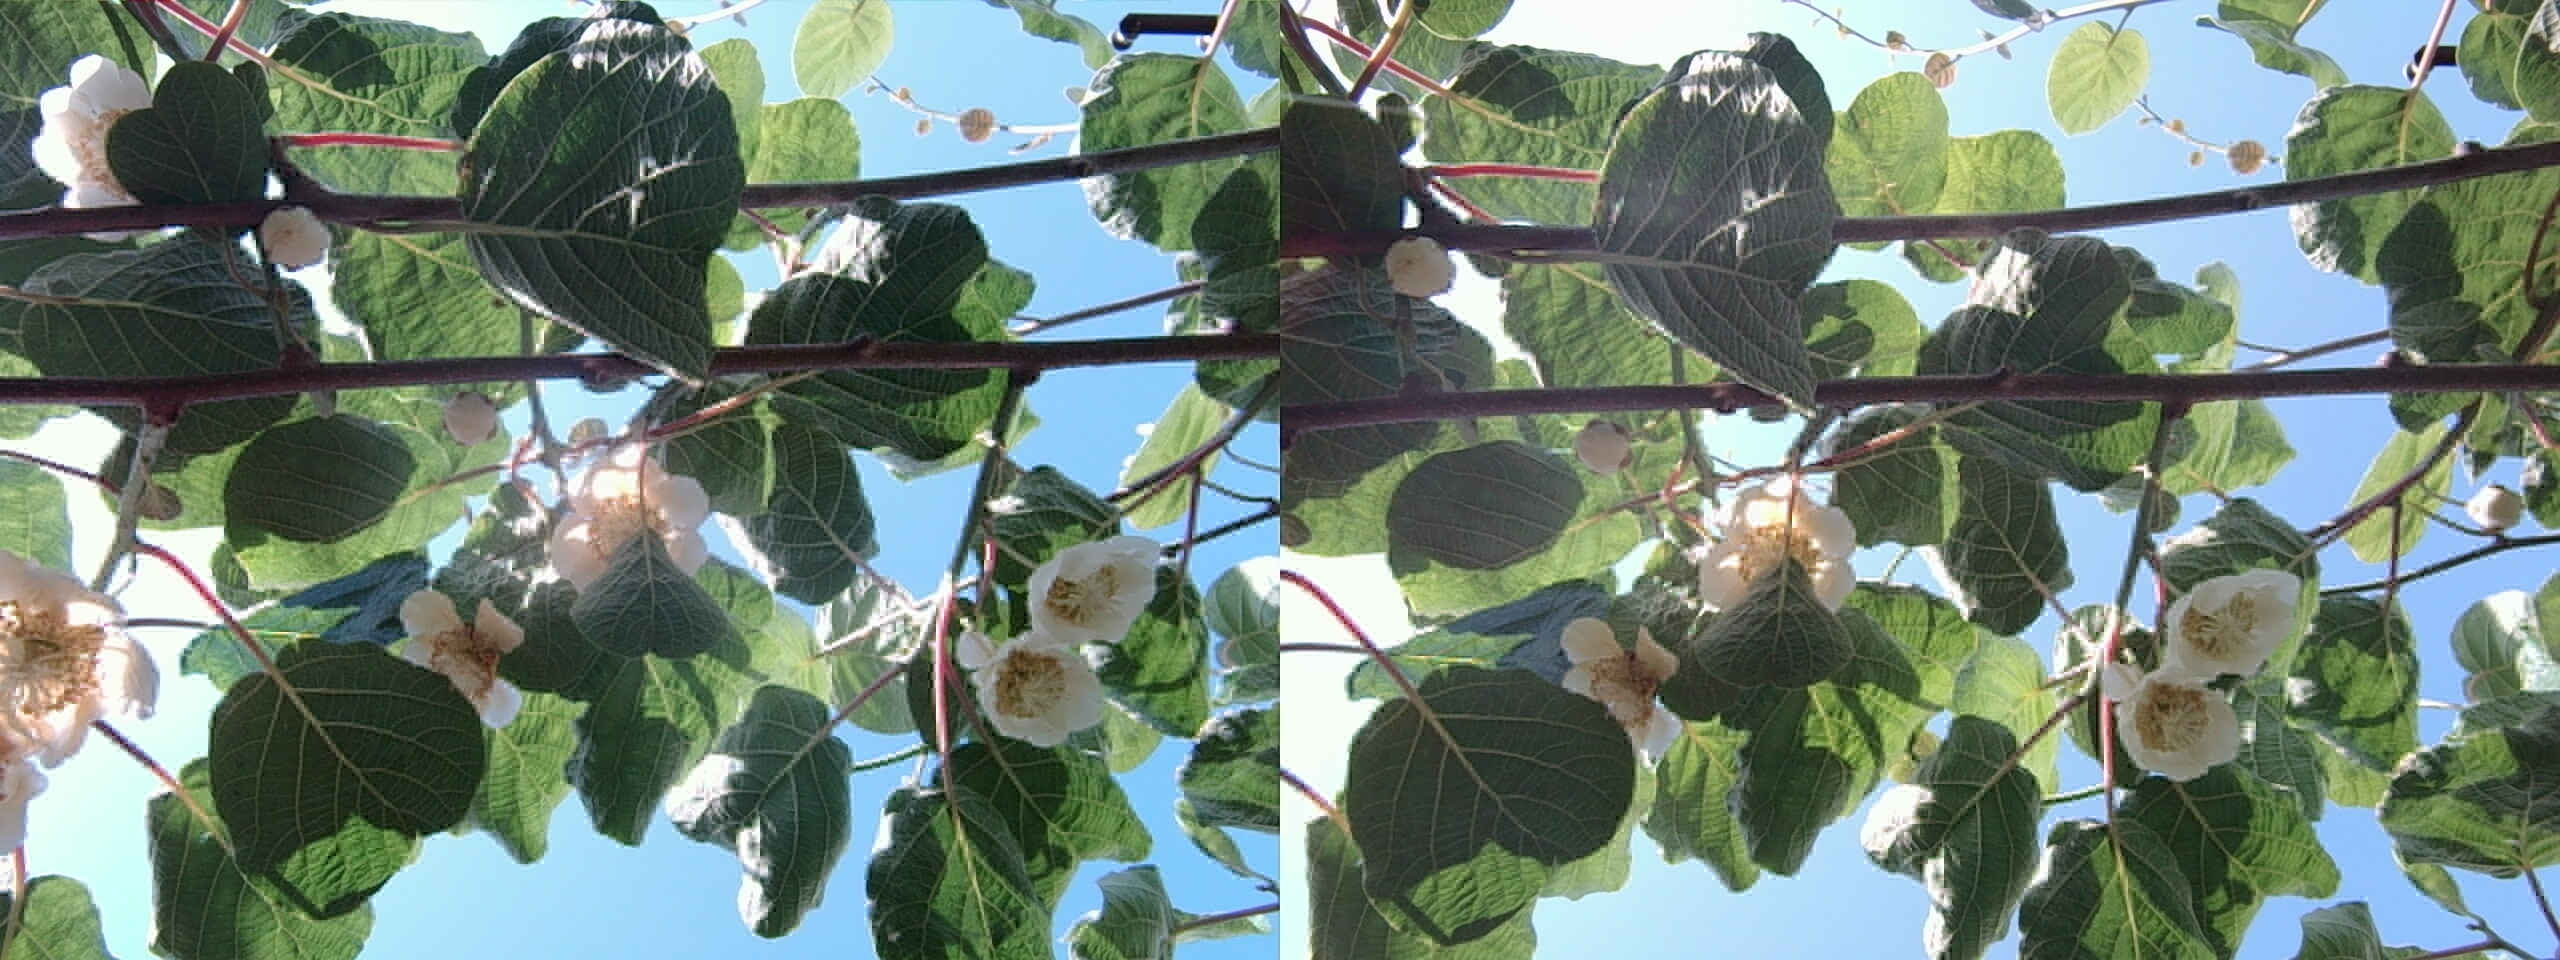flower: (0, 553, 150, 772), (29, 54, 171, 238), (558, 447, 700, 583), (1700, 478, 1847, 607), (1558, 609, 1678, 748), (2155, 570, 2300, 678), (397, 588, 519, 713), (1025, 539, 1159, 650), (963, 630, 1100, 738), (2111, 663, 2238, 774)
